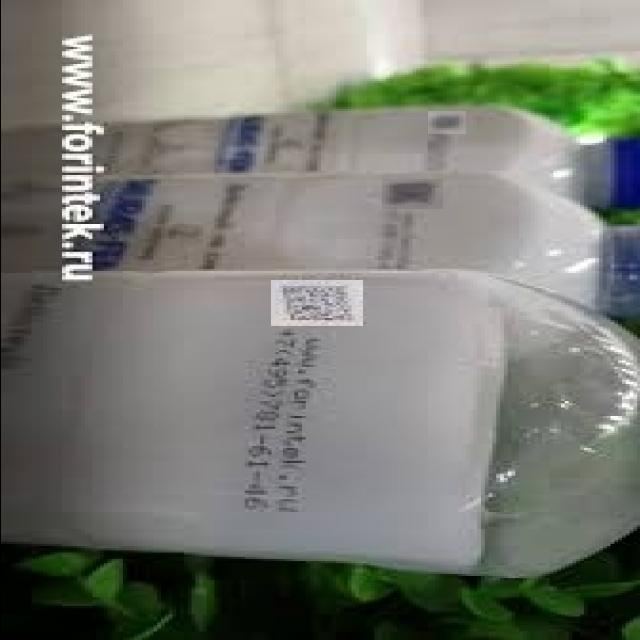Data-Matrix: (270, 280, 362, 326), (381, 179, 442, 209), (427, 111, 465, 134)
